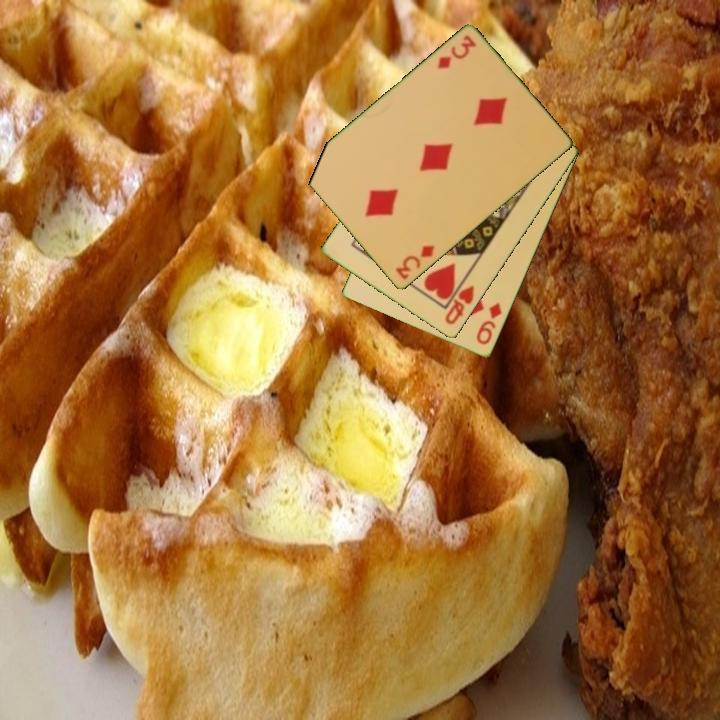3d: (392, 242, 437, 283), (434, 32, 479, 72)
9d: (473, 299, 505, 348)
Qh: (441, 282, 477, 328)
